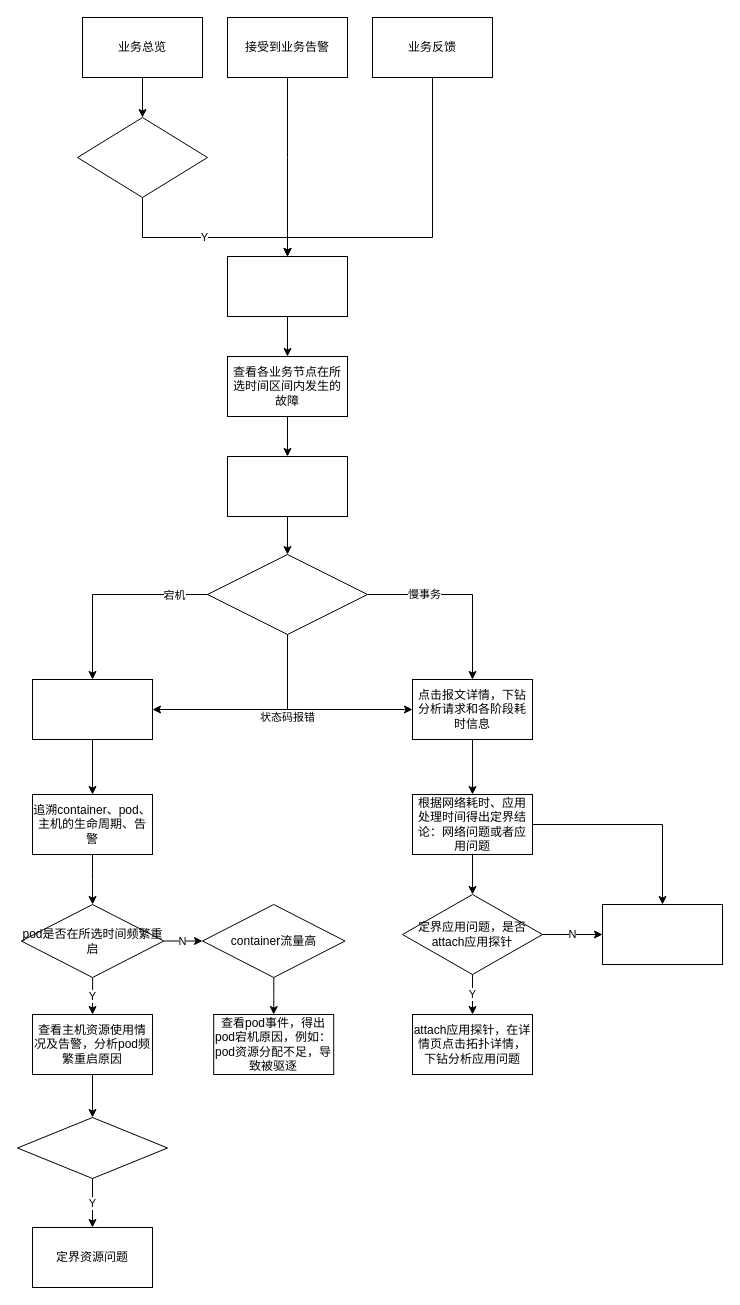
This 740x1305 diagram has some shape labels left out. Each missing label, with the centre of its shape:
下钻查看故障详情: the point at 287,486
主机资源占用高: the point at 92,1147
宕机/状态码报错/ 慢事务: the point at 287,594
异常/不健康业务: the point at 142,157
跳转到系统分层拓扑，检查资源层问题: the point at 92,709
进入业务列表，点击详情进入业务排障，进行对应业务排障: the point at 287,286
问题定界，找到对应负责人处理: the point at 662,934
